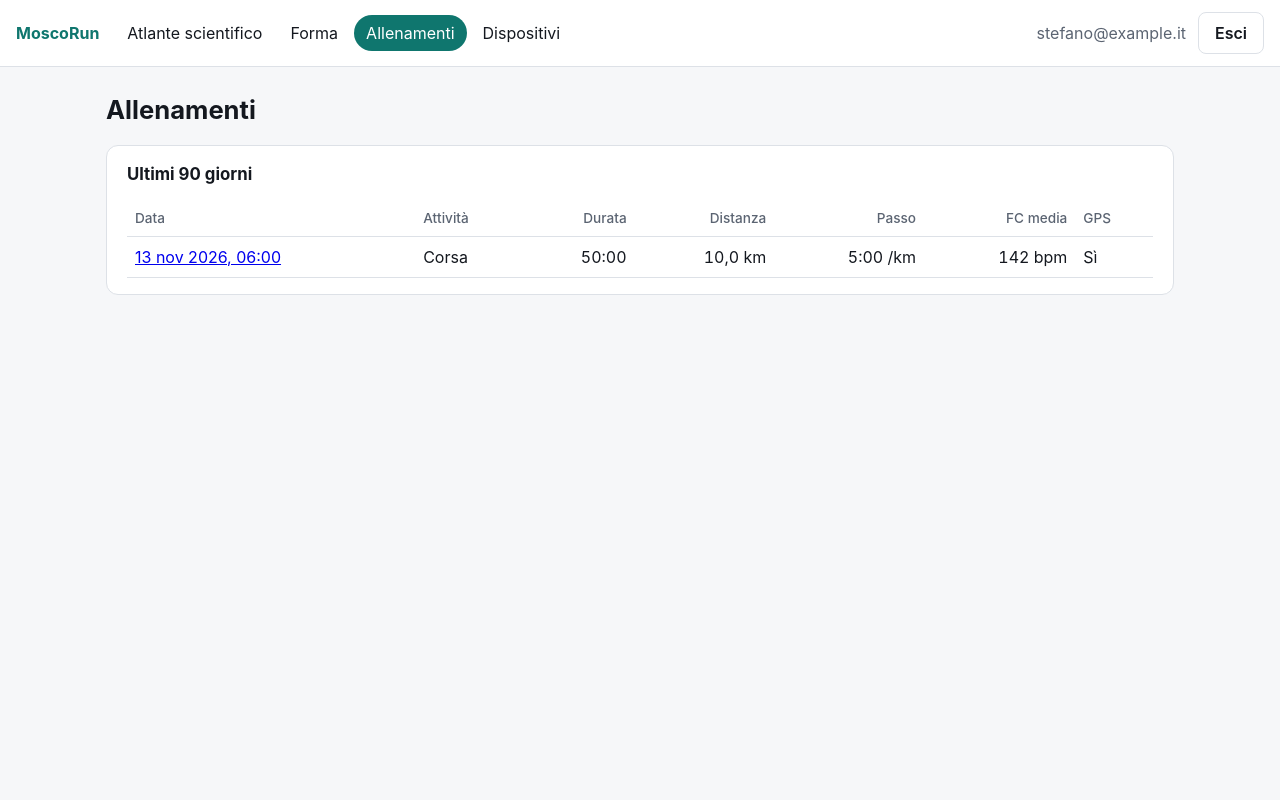
it: allenamenti › elenca gli allenamenti con i valori principali e apre il dettaglio
Expected: the row "13 nov 2026, 06:00 Corsa 50:00 10,0 km 5:00 /km 142 bpm Sì" is shown, [127, 236, 1153, 278]
Click the link "13 nov 2026, 06:00" at (208, 257), box [135, 247, 281, 267]
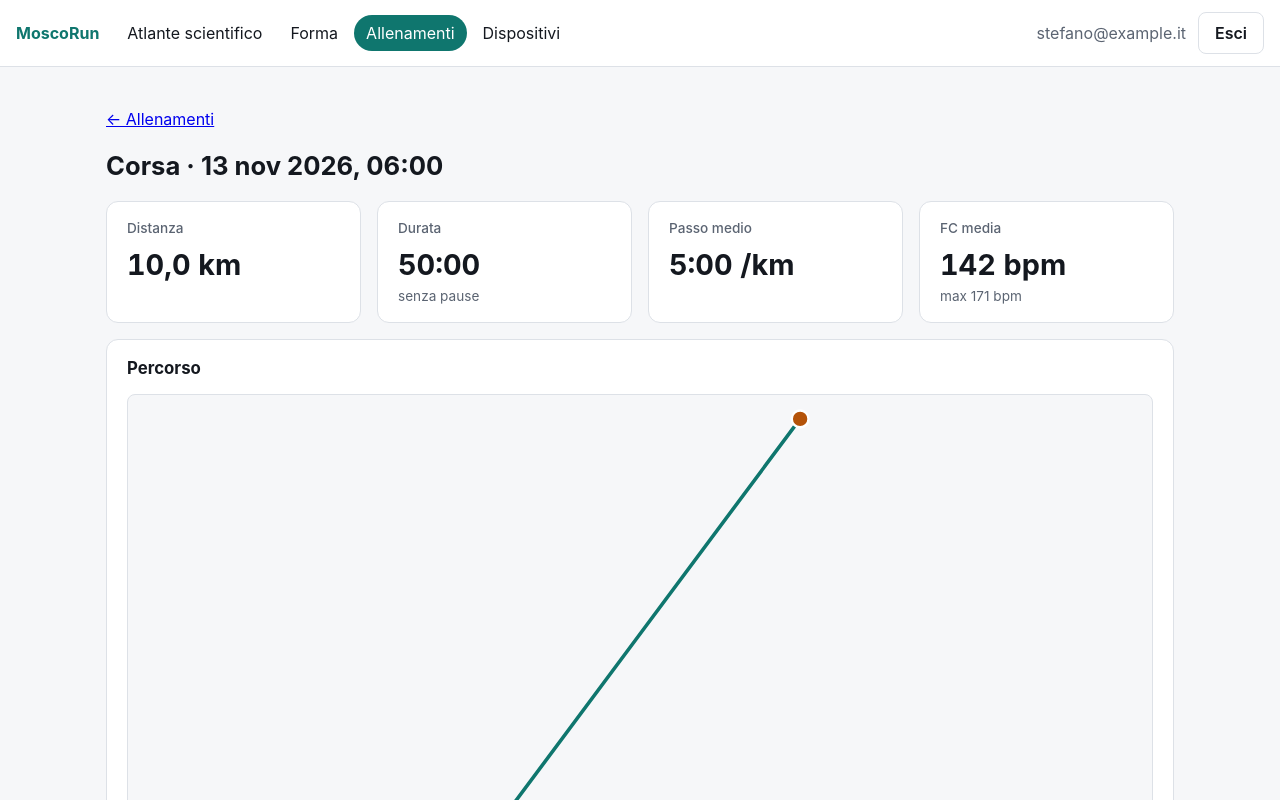
Result: the heading "Corsa · 13 nov 2026, 06:00" is shown at [106, 150, 443, 181]
